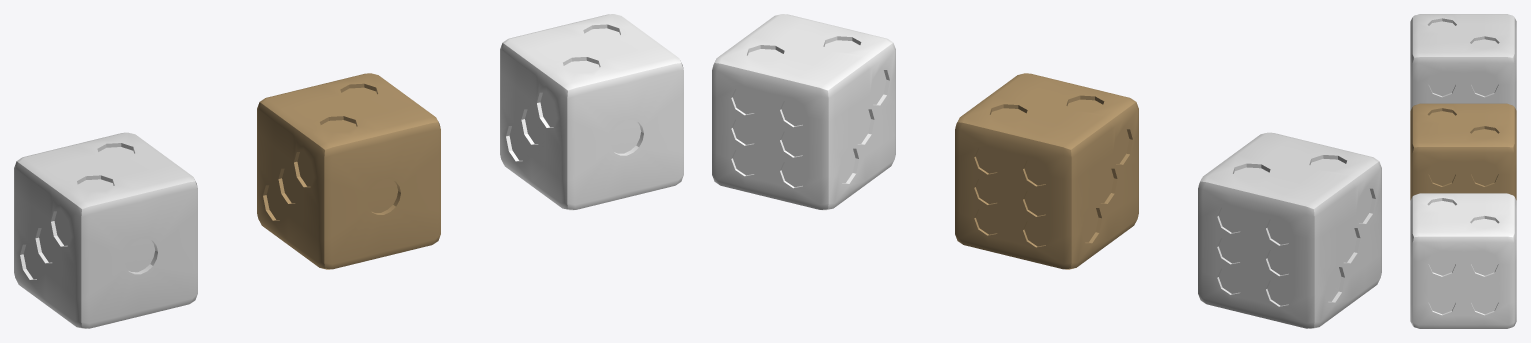
3 renders of one model, left to right at view 1: azimuth 30°, elevation 25°; view 2: azimuth 150°, elevation 25°; view 3: azimuth 270°, elevation 25°, orthographic. The views are drawn at different scales.
Parts seen in each view (by area): view 1: dice01, dice02, dice03; view 2: dice01, dice02, dice03; view 3: dice03, dice01, dice02.
Boxes of the visible parts, x1,y1,x2,y2 form: dice01: (257, 73, 440, 269); dice02: (14, 132, 197, 328); dice03: (500, 14, 683, 210); dice01: (955, 73, 1138, 269); dice02: (1198, 132, 1381, 328); dice03: (712, 14, 895, 210); dice03: (1410, 193, 1516, 328); dice01: (1410, 103, 1516, 200); dice02: (1410, 14, 1516, 110).
Bounding box in the file's own units: 25 × 5 × 5.01.
